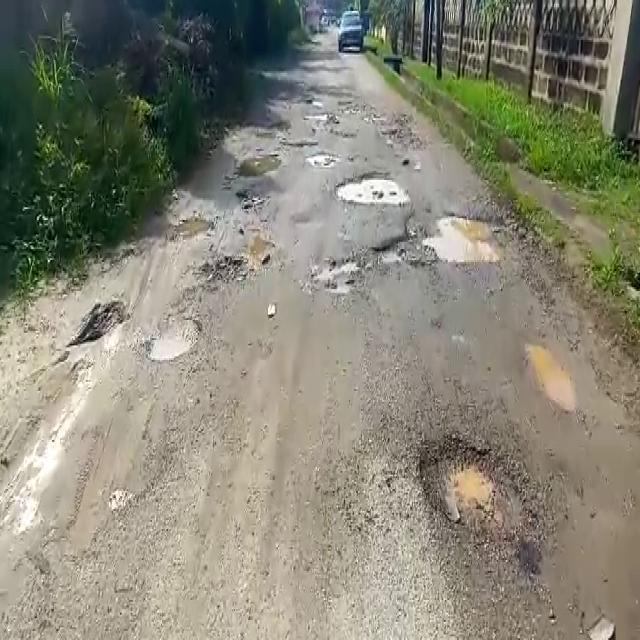pothole: (412, 437, 508, 540), (395, 211, 508, 263), (142, 313, 202, 363), (333, 170, 411, 204), (312, 258, 367, 300), (305, 150, 339, 165)
